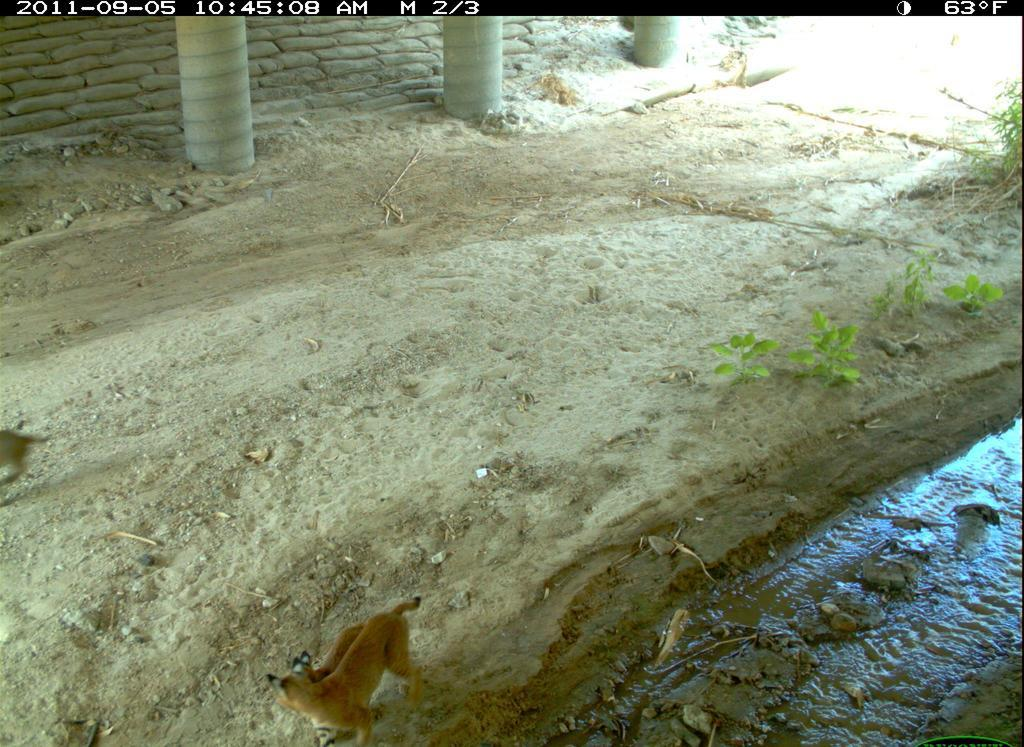bobcat: (264, 593, 428, 743), (3, 414, 61, 489)
